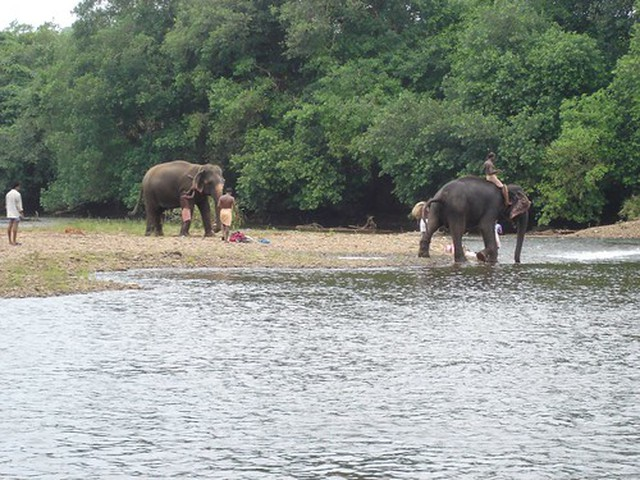Elephant: (418, 177, 534, 261), (134, 158, 221, 229)
Person: (482, 151, 512, 201), (4, 181, 23, 247), (218, 186, 236, 240), (176, 187, 194, 234), (412, 197, 429, 232)
